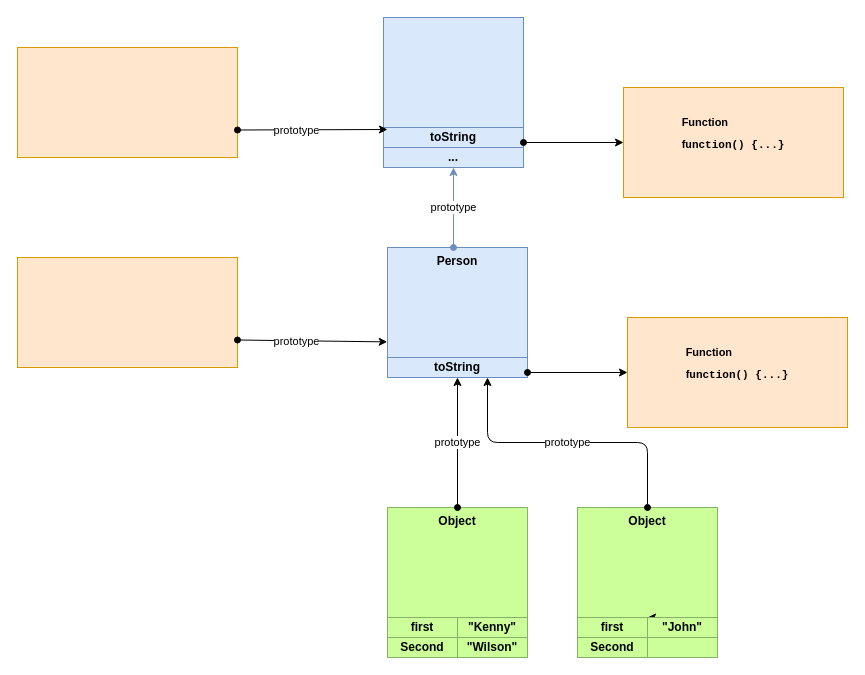
This 865x675 diagram has some shape labels left out. The shapes that lost their labels are listed below. From the top down, each one's box as (x1, y1, x2, y2) in pixels, then its label:
(382, 16, 524, 128): Object.prototype
(16, 46, 238, 158): Object: Function (Constructor) f unction() {...}
(16, 256, 238, 368): Person: Function (Constructor) f unction() {...}
(646, 636, 718, 658): "Smith
